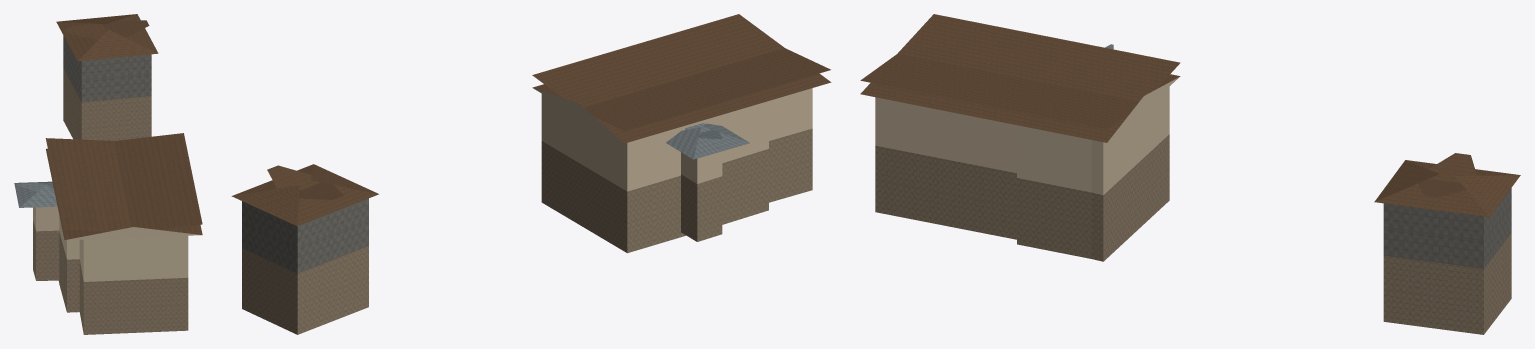
The model's file is bld_c3_20_460.gltf.
3 renders of one model, left to right at view 1: azimuth 30°, elevation 25°; view 2: azimuth 150°, elevation 25°; view 3: azimuth 270°, elevation 25°, orthographic. The views are drawn at different scales.
Visible parts, largest first — view 1: bld_c3_20_460; view 2: bld_c3_20_460; view 3: bld_c3_20_460.
Boxes of the visible parts, x1,y1,x2,y2 form: bld_c3_20_460: [14, 14, 202, 334]; bld_c3_20_460: [231, 14, 831, 334]; bld_c3_20_460: [860, 14, 1520, 334].
Bounding box in the file's own units: 28.6 × 10.7 × 44.28.
6 materials, 6 textured.
